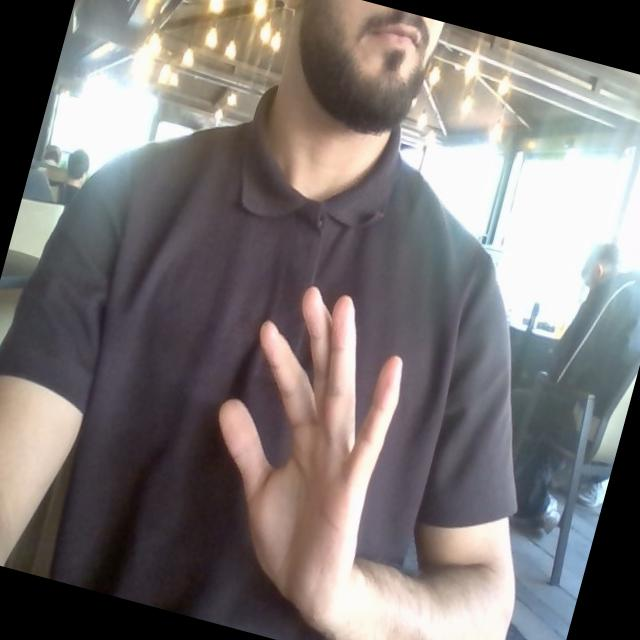Hand: (219, 288, 401, 628)
